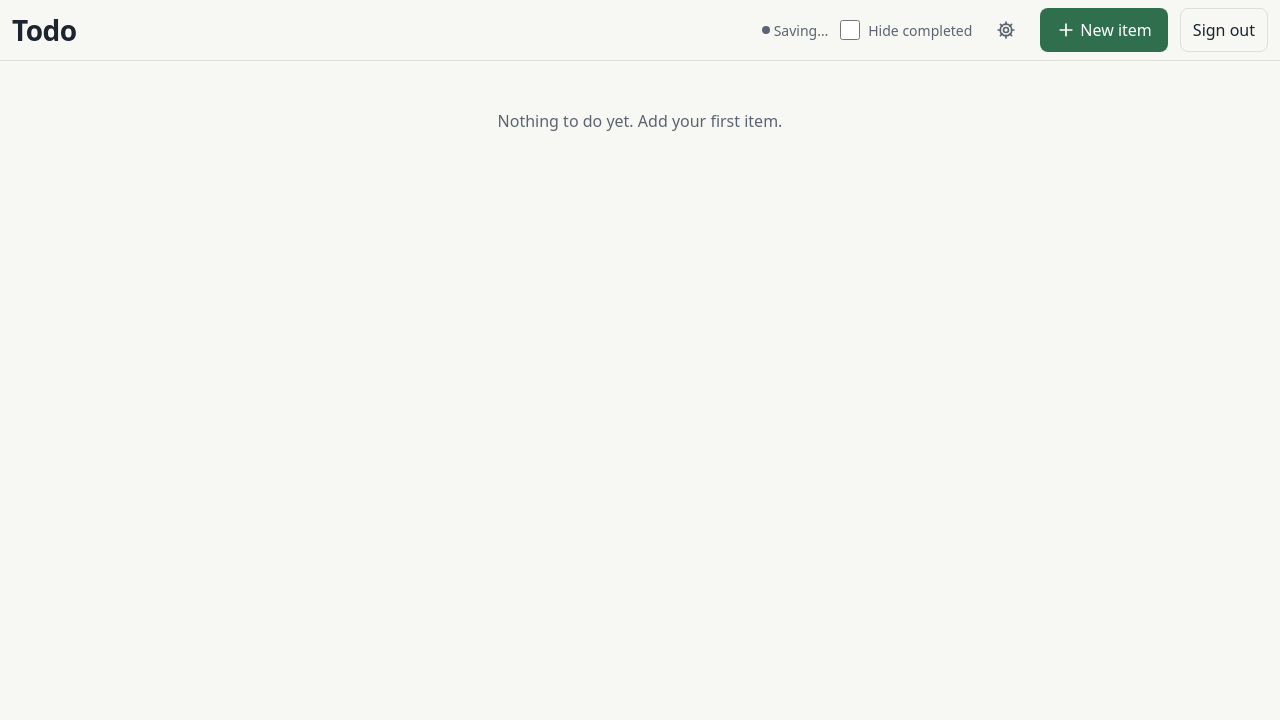
it: the settings wheel › opens the dialog, flips aria-expanded, and Done closes it and restores focus
The image size is (1280, 720).
Click the button named "Settings" at (1006, 30), box [984, 8, 1028, 52]
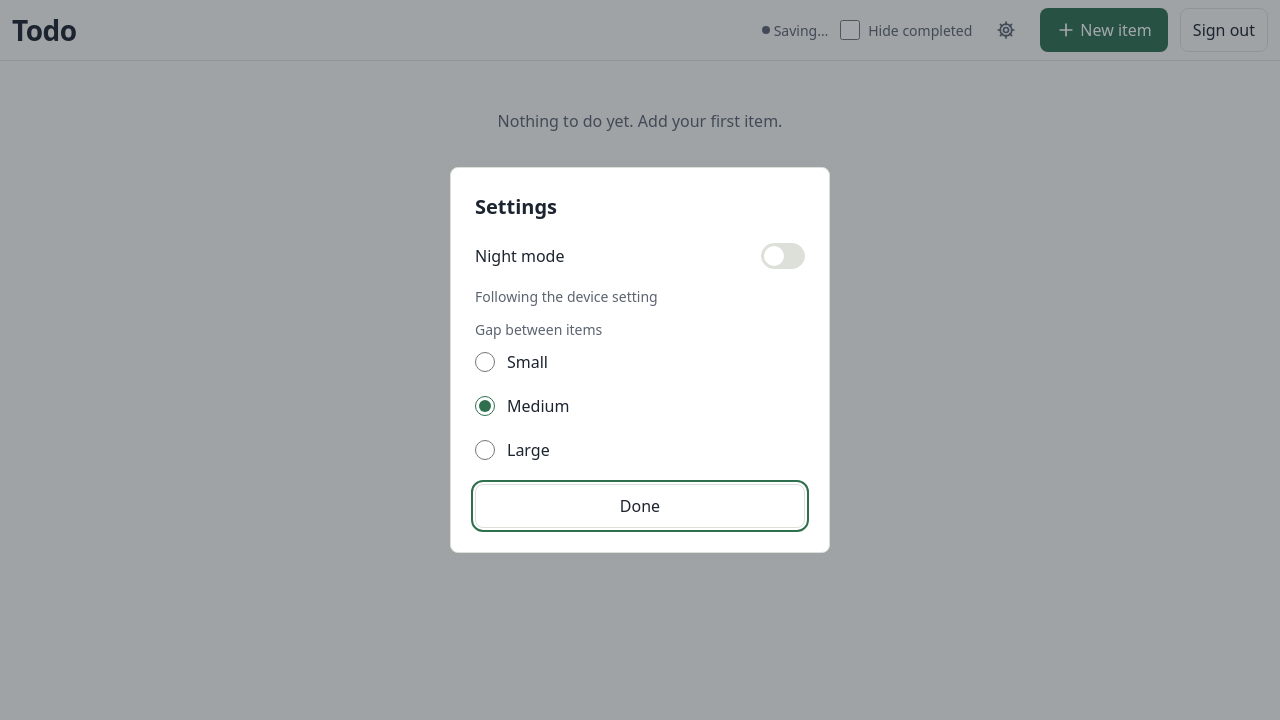
Result: the button named "Settings" is expanded at [984, 8, 1028, 52]
Click the button "Done" at (640, 506), box [475, 484, 805, 528]
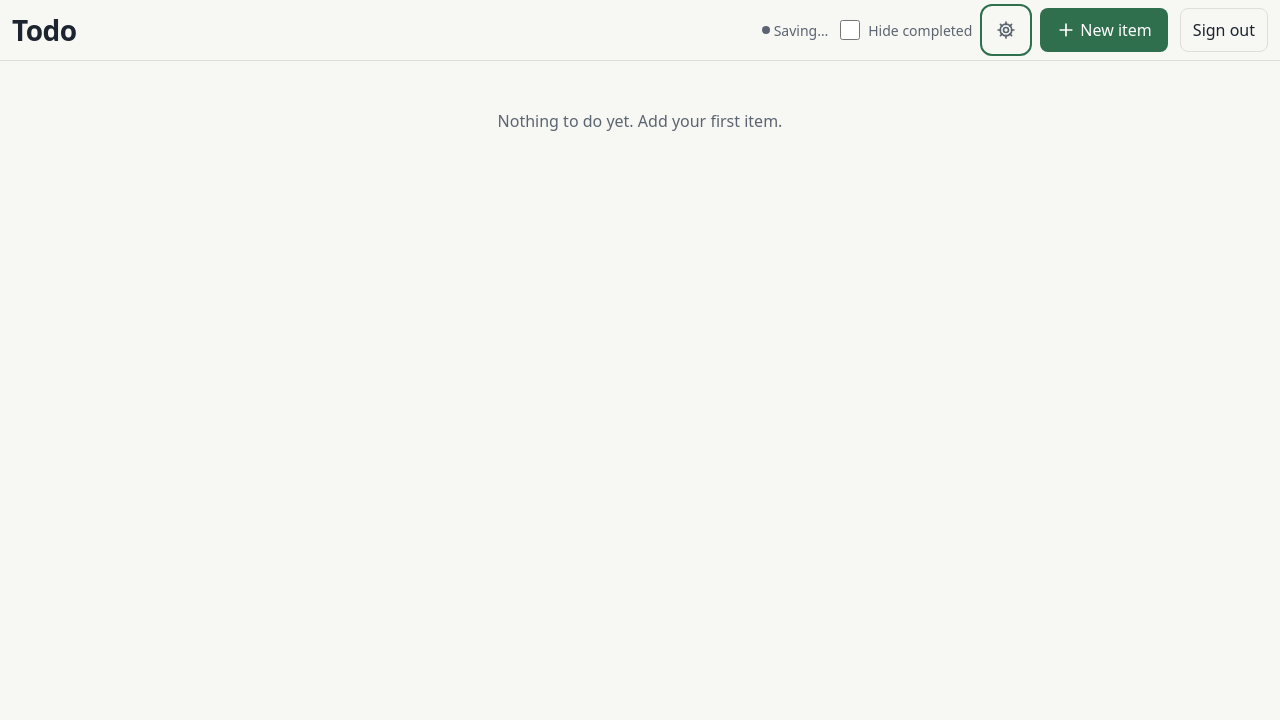
Result: the heading "Settings" is gone
Result: the button named "Settings" is collapsed at [984, 8, 1028, 52]
